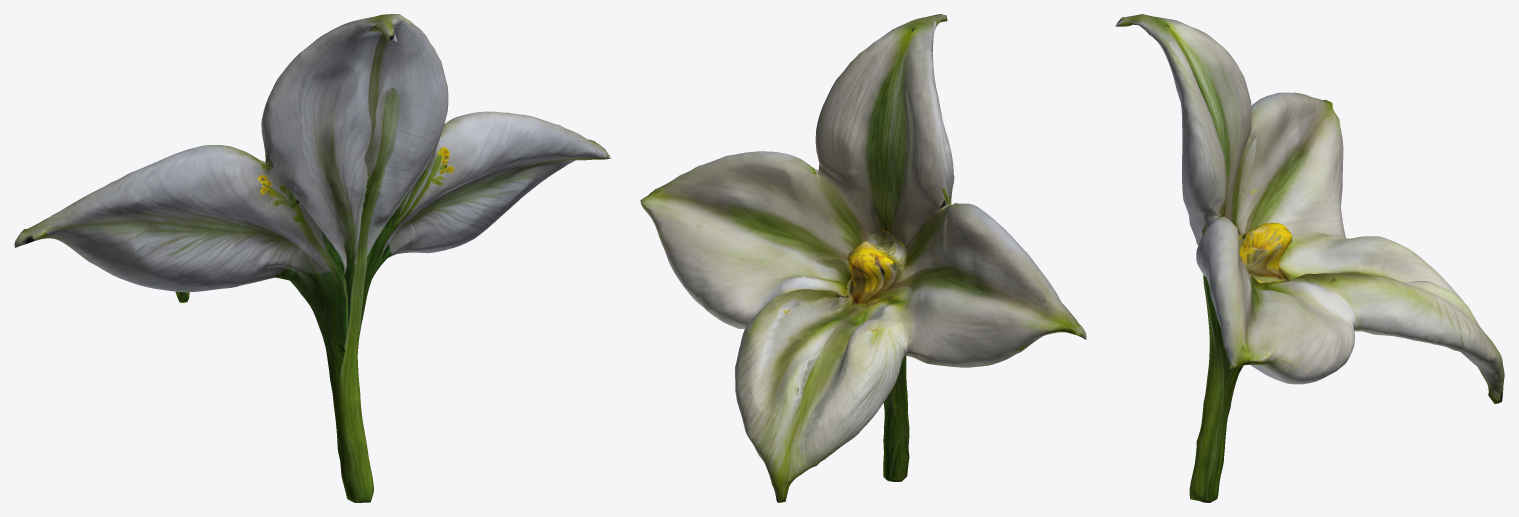
The model's file is Trillium.glb.
The picture shows the model from 3 angles, left to right: view 1: azimuth 30°, elevation 25°; view 2: azimuth 150°, elevation 25°; view 3: azimuth 270°, elevation 25°; orthographic projection. The views are drawn at different scales.
Size of the model in its own units: 1.2 by 1.06 by 0.7788.
Materials: 1 (1 with a texture image).
